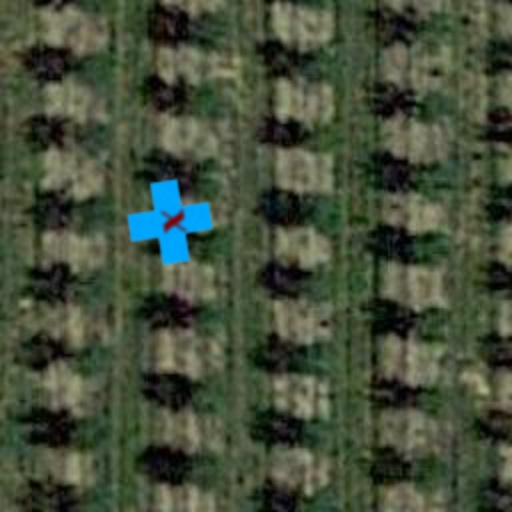cross: (122, 174, 218, 270)
